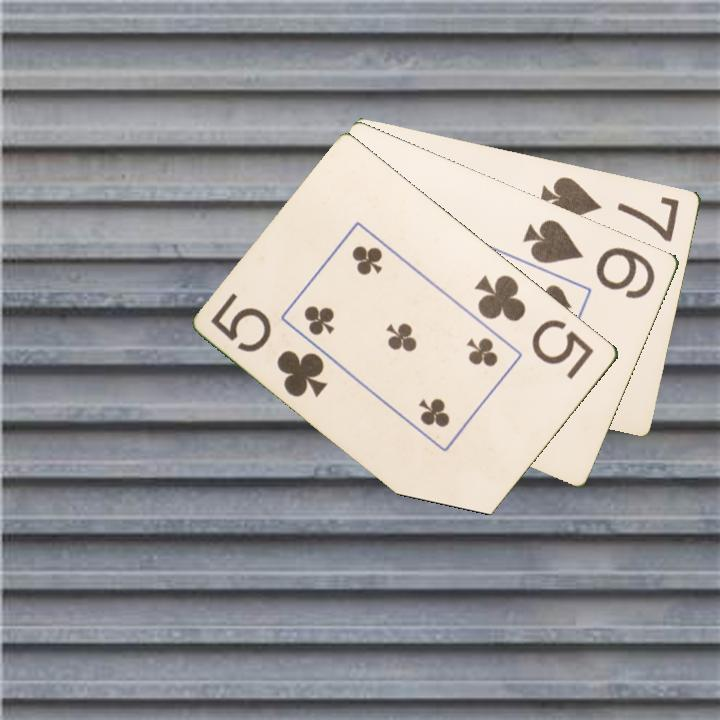5c: (470, 270, 598, 382), (207, 289, 331, 401)
6s: (519, 215, 659, 302)
7s: (537, 172, 683, 245)
